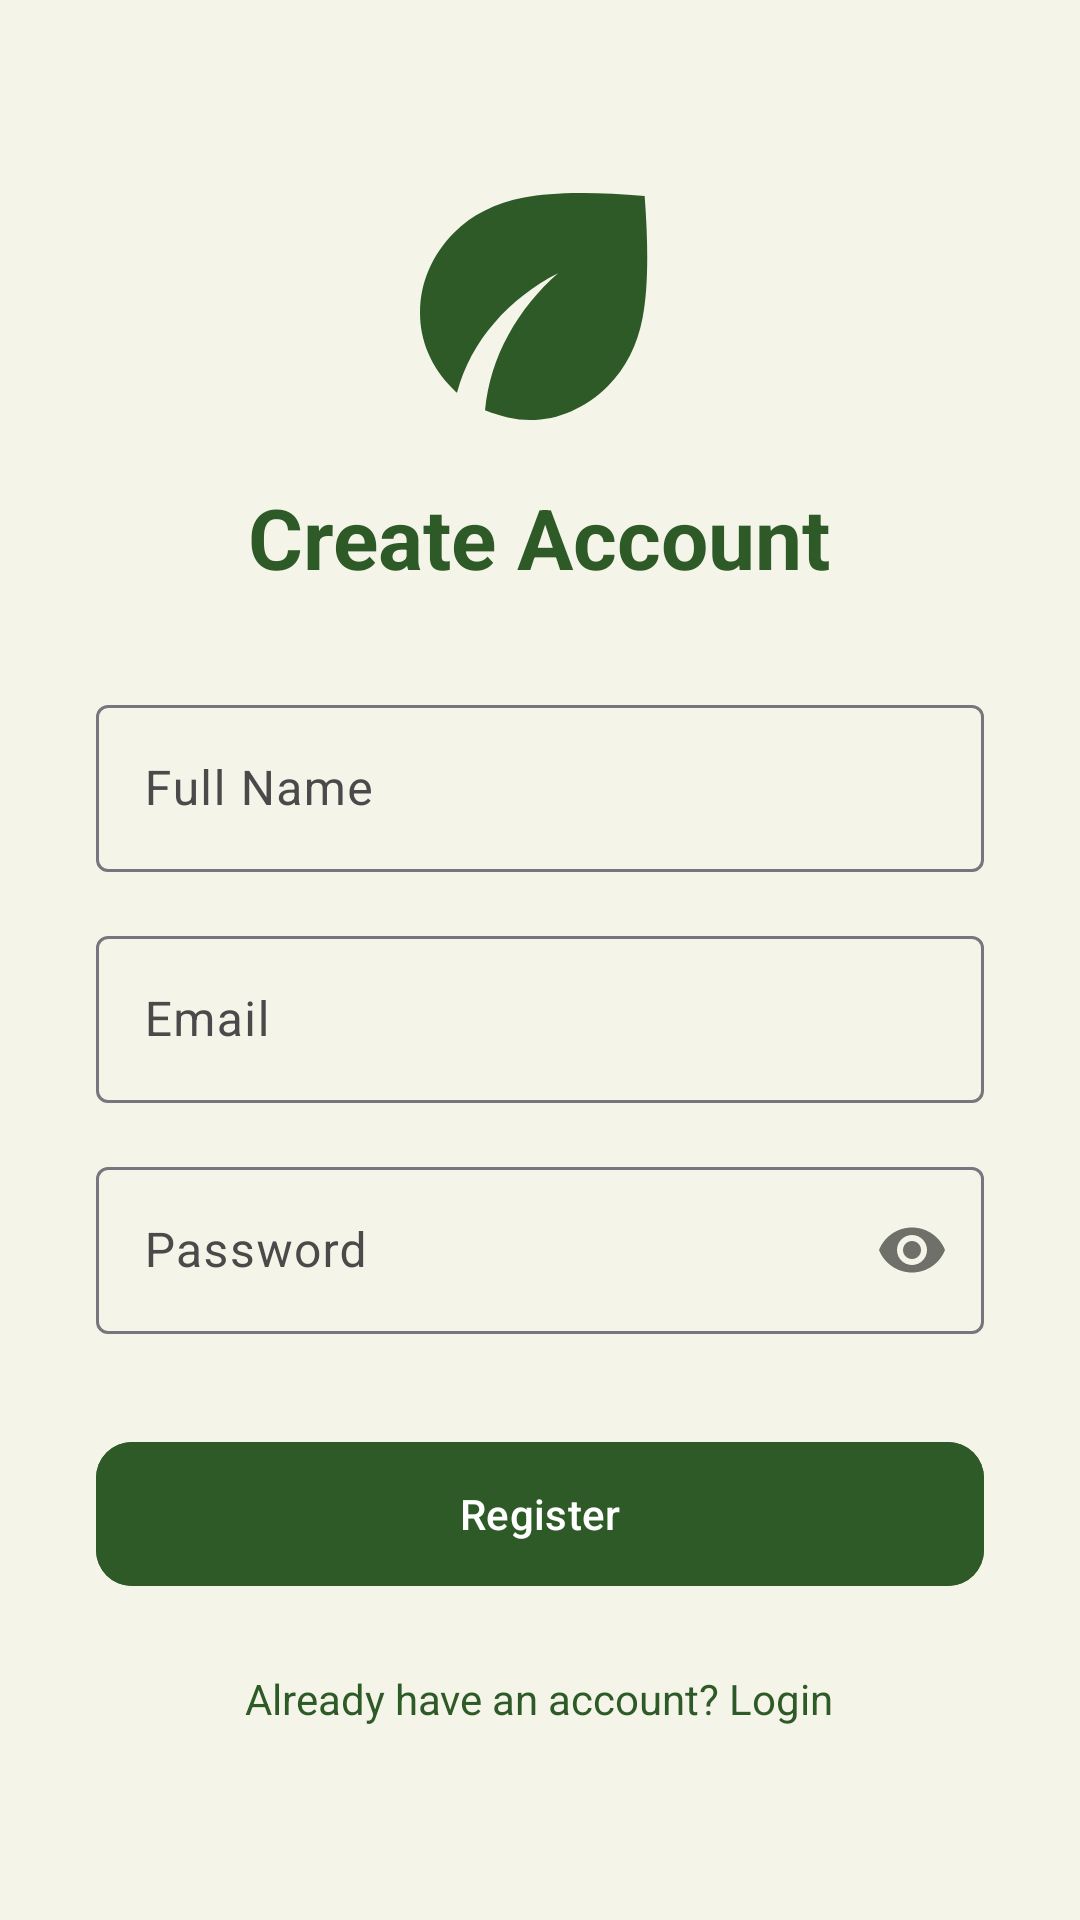

Screen size 1080px×1920px. Icon name, then its center in pixels as point (x, y):
leaf: point (534, 306)
